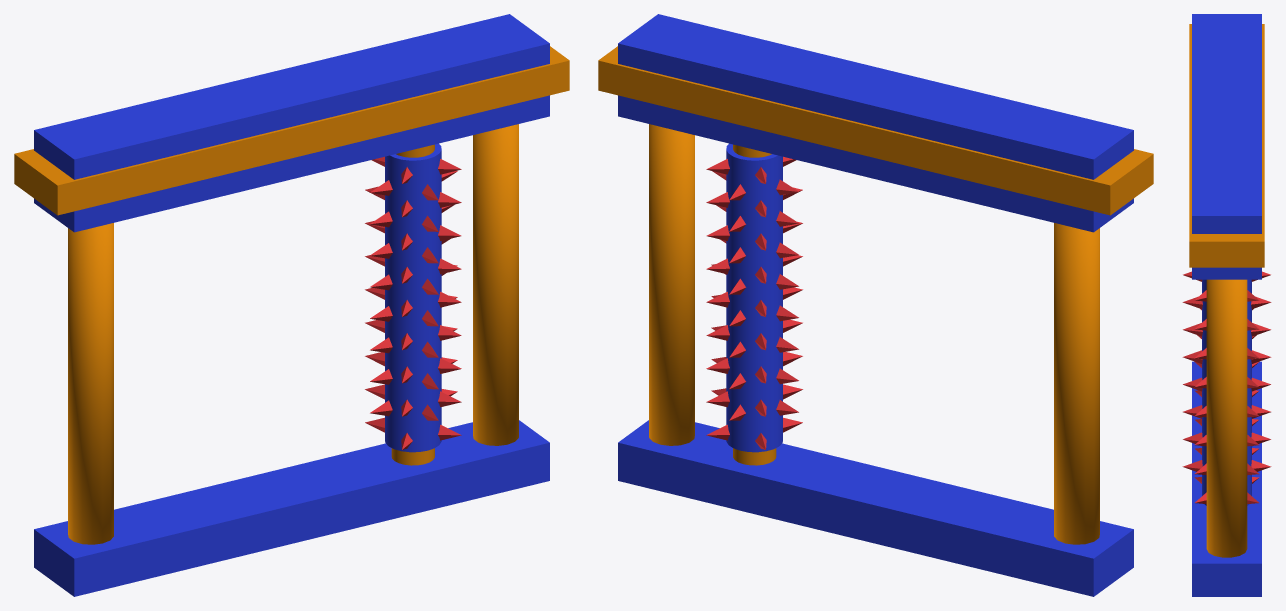
The model's file is engel16.fbx.
3 views of the same model, side by side, from view 1: azimuth 30°, elevation 25°; view 2: azimuth 150°, elevation 25°; view 3: azimuth 270°, elevation 25° (orthographic). The views are drawn at different scales.
Visible parts, largest first — view 1: Cube.008, Cylinder.023, Cylinder.021, Cylinder.022; view 2: Cube.008, Cylinder.023, Cylinder.021, Cylinder.022; view 3: Cube.008, Cylinder.022, Cylinder.023.
Part boxes in pixels (box(x1,y1,x2,y2)): Cube.008: box(14, 14, 569, 596); Cylinder.023: box(365, 143, 461, 465); Cylinder.021: box(68, 223, 113, 544); Cylinder.022: box(473, 124, 518, 445); Cube.008: box(598, 14, 1153, 596); Cylinder.023: box(706, 143, 802, 465); Cylinder.021: box(1054, 223, 1099, 544); Cylinder.022: box(649, 124, 694, 445); Cube.008: box(1189, 14, 1264, 596); Cylinder.022: box(1206, 279, 1247, 557); Cylinder.023: box(1182, 271, 1271, 505).
Bounding box in the file's own units: 706 × 576 × 123.
